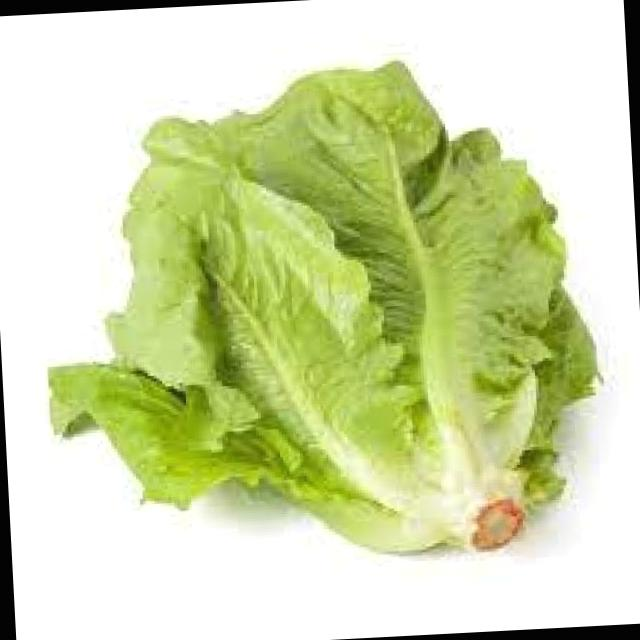Lettuce-Ready-to-Harvest: (52, 62, 596, 550)
